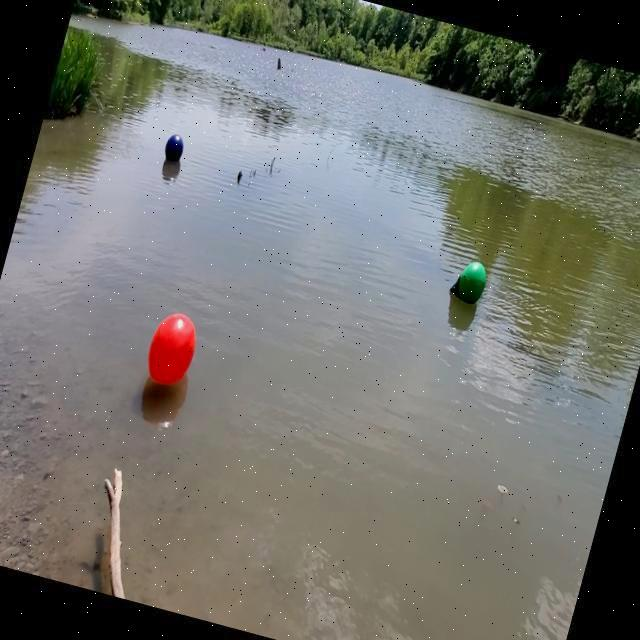buoy: (136, 303, 204, 396), (444, 255, 492, 312), (160, 130, 189, 167)
